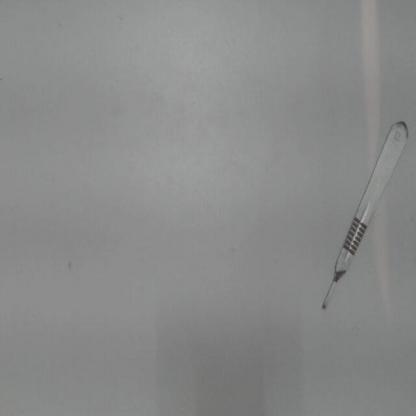No.3 BP Handle: (312, 112, 416, 321)
